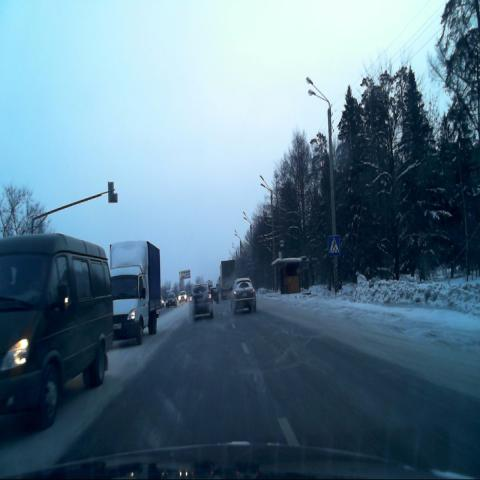5_19_1: (328, 235, 340, 256)
